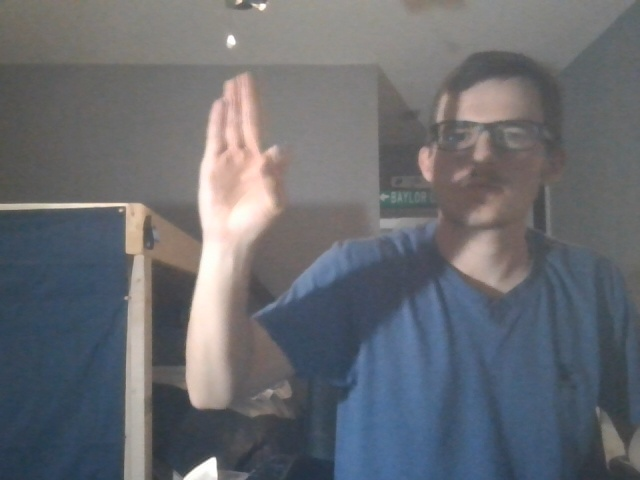F: (191, 68, 303, 245)
